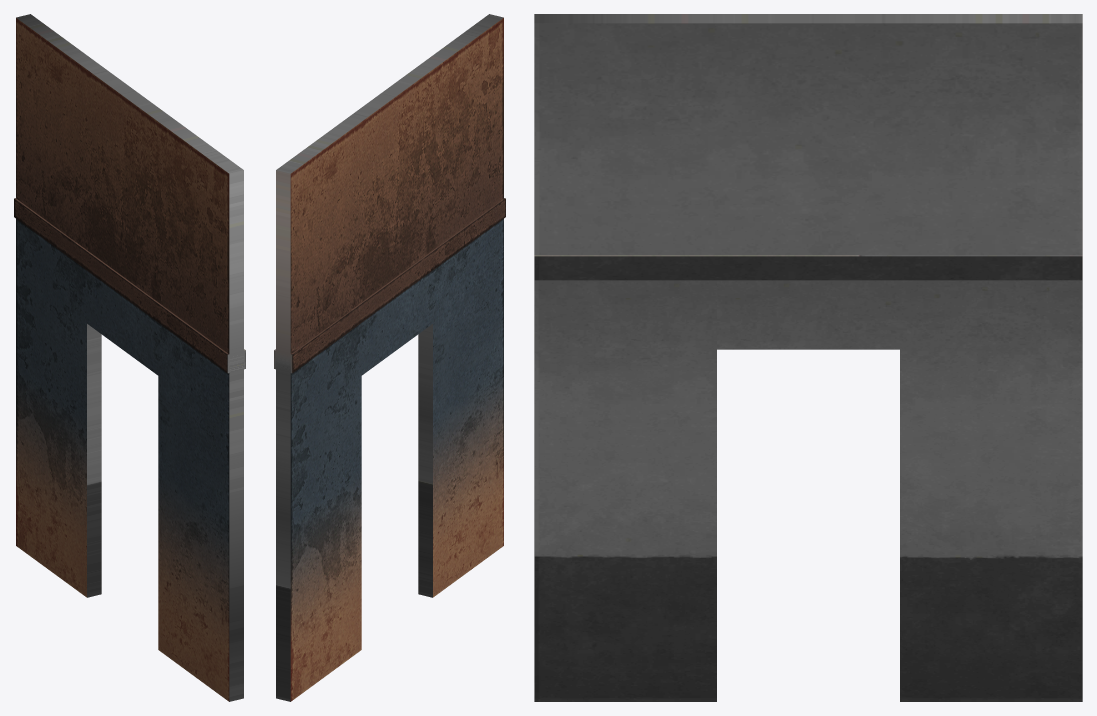
Rendered from Door_Wall2.fbx.
The picture shows the model from 3 angles, left to right: view 1: azimuth 30°, elevation 25°; view 2: azimuth 150°, elevation 25°; view 3: azimuth 270°, elevation 25°; orthographic projection. The views are drawn at different scales.
Visible parts, largest first — view 1: Door_Wall; view 2: Door_Wall; view 3: Door_Wall.
Part boxes in pixels (x1=…): Door_Wall: x1=14, y1=14, x2=245, y2=701; Door_Wall: x1=274, y1=14, x2=505, y2=701; Door_Wall: x1=534, y1=14, x2=1082, y2=701.
Size of the model in its own units: 0.2954 by 8.13 by 5.96.
